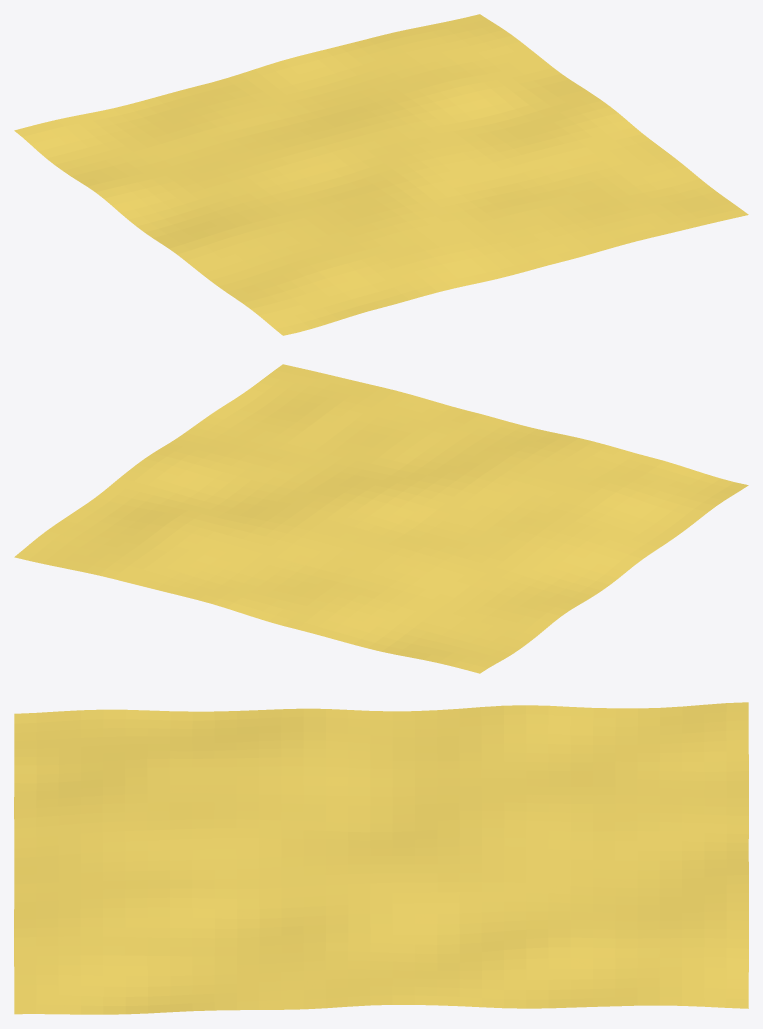
The model's file is Ground.fbx.
3 views of the same model, one above another, from view 1: azimuth 30°, elevation 25°; view 2: azimuth 150°, elevation 25°; view 3: azimuth 270°, elevation 25° (orthographic). The views are drawn at different scales.
Visible parts, largest first — view 1: Plane.001; view 2: Plane.001; view 3: Plane.001.
Part boxes in pixels (<box>): Plane.001: <box>14,14,748,335</box>; Plane.001: <box>14,364,748,673</box>; Plane.001: <box>14,702,748,1014</box>.
Size of the model in its own units: 12456 by 396 by 12458.
